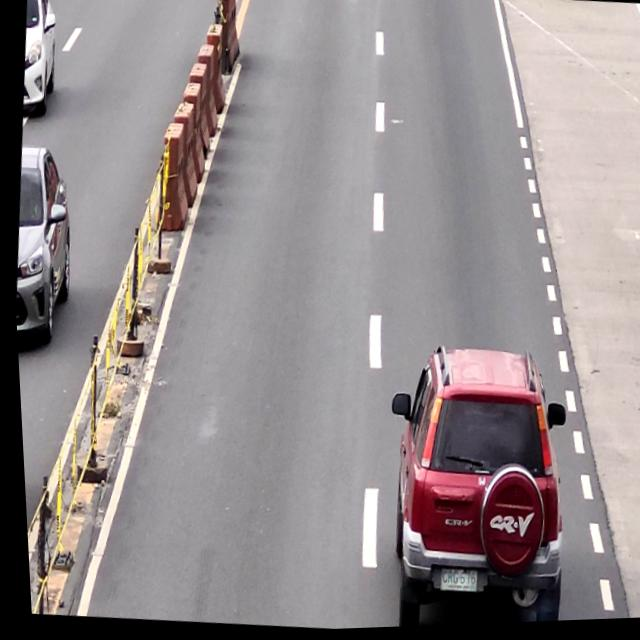Car: (365, 340, 575, 630)
License-Plate: (432, 568, 472, 597)
